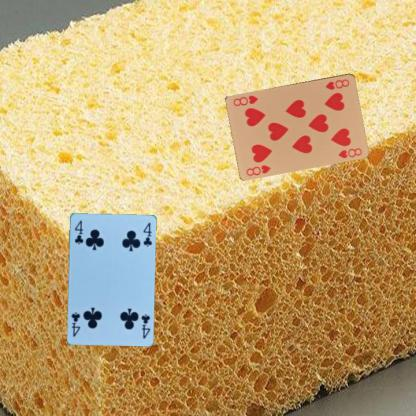4c: (139, 311, 151, 340), (72, 218, 84, 245)
8h: (323, 76, 351, 91), (244, 162, 272, 177)
